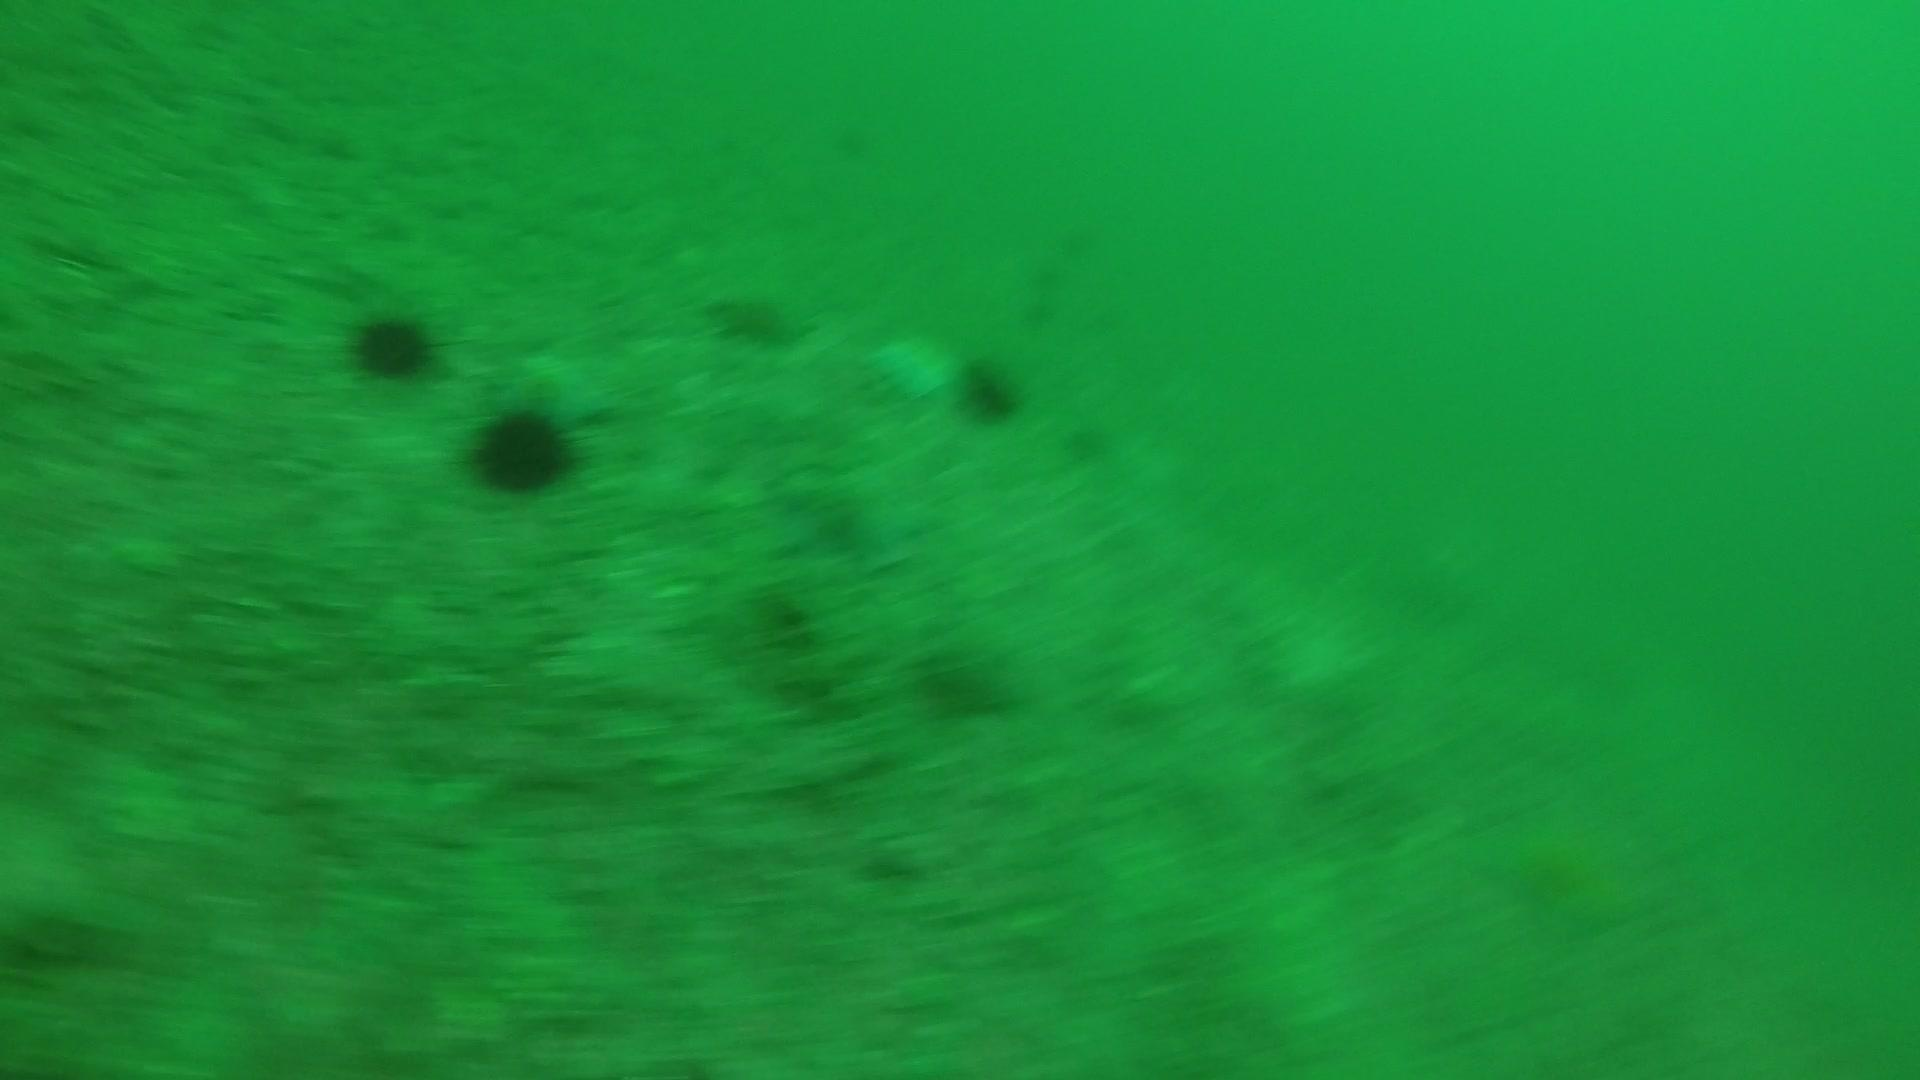echinus: (464, 400, 583, 498), (913, 640, 1018, 724), (343, 303, 440, 386), (703, 284, 804, 352), (951, 351, 1027, 427), (1059, 414, 1120, 468)
starfish: (764, 455, 938, 567), (487, 343, 626, 434), (864, 324, 964, 405)
